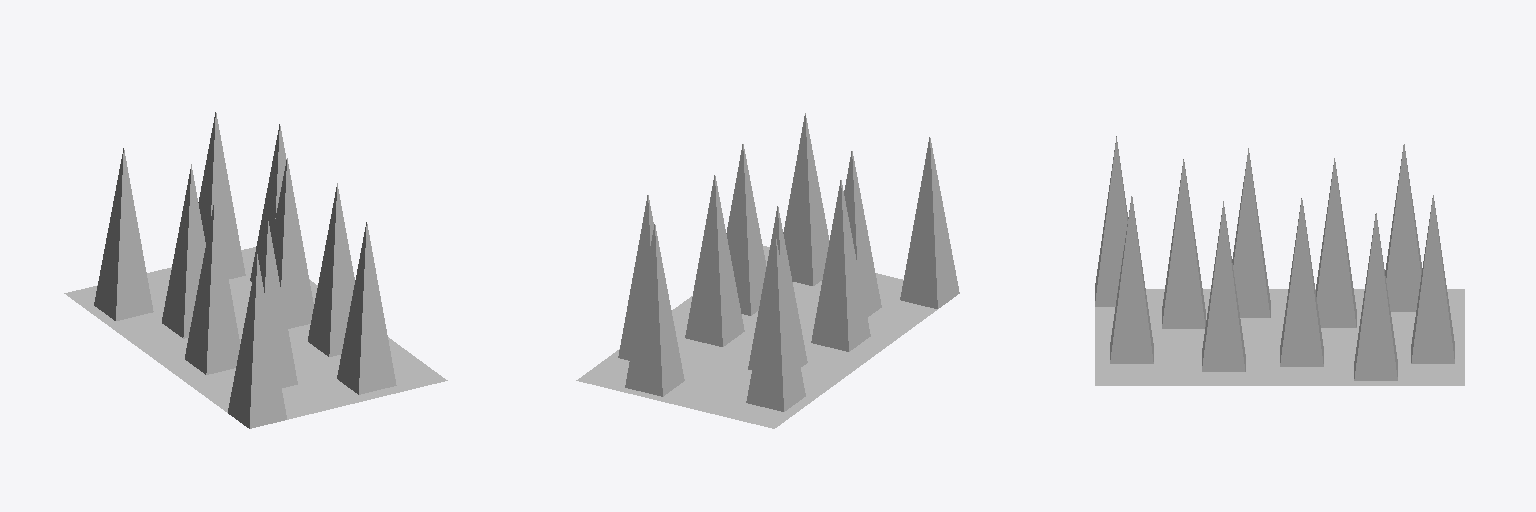
File: spikes.obj
The picture shows the model from 3 angles: view 1: azimuth 30°, elevation 25°; view 2: azimuth 150°, elevation 25°; view 3: azimuth 270°, elevation 25°; orthographic projection.
Visible parts, largest first — view 1: skpE45D_001; view 2: skpE45D_001; view 3: skpE45D_001.
Part boxes in pixels (x1,y1,x2,y2): skpE45D_001: (64, 112, 447, 428); skpE45D_001: (576, 113, 959, 428); skpE45D_001: (1095, 136, 1464, 385).
Bounding box in the file's own units: 6769 × 5290 × 10953.